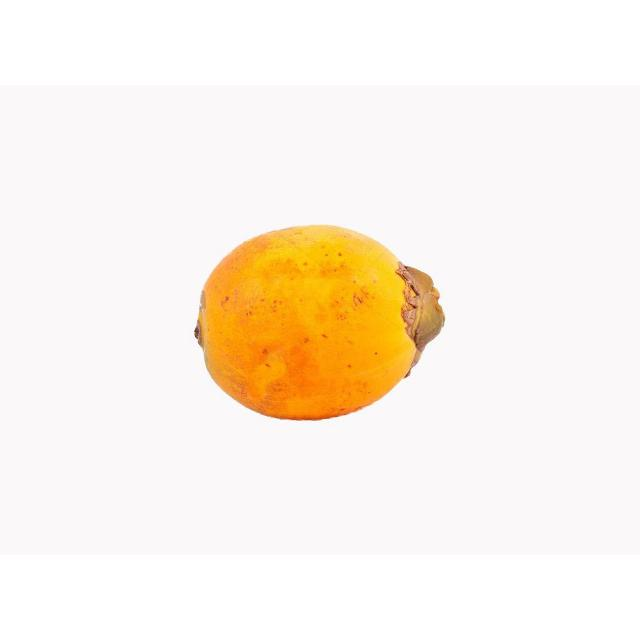good: (194, 225, 446, 423)
